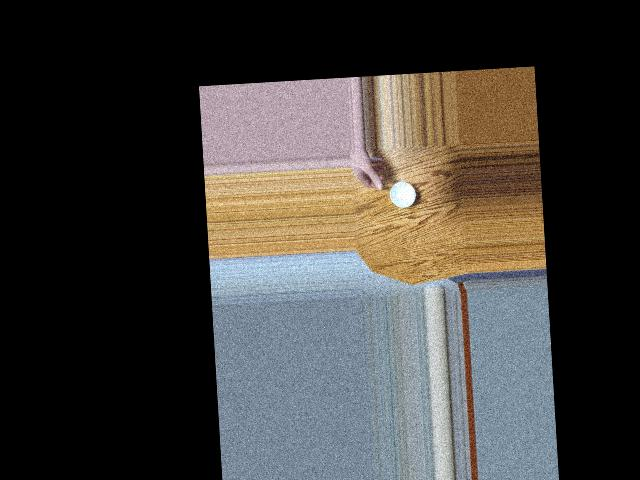cotage: (386, 174, 415, 208)
